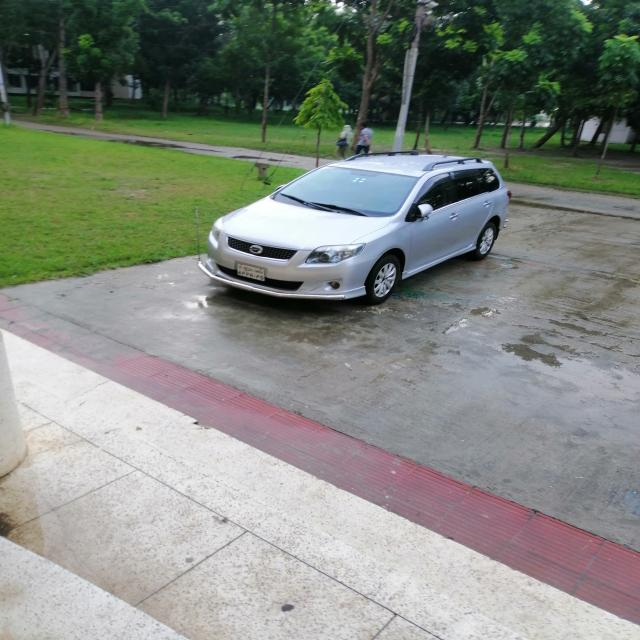Car: (196, 151, 517, 307)
